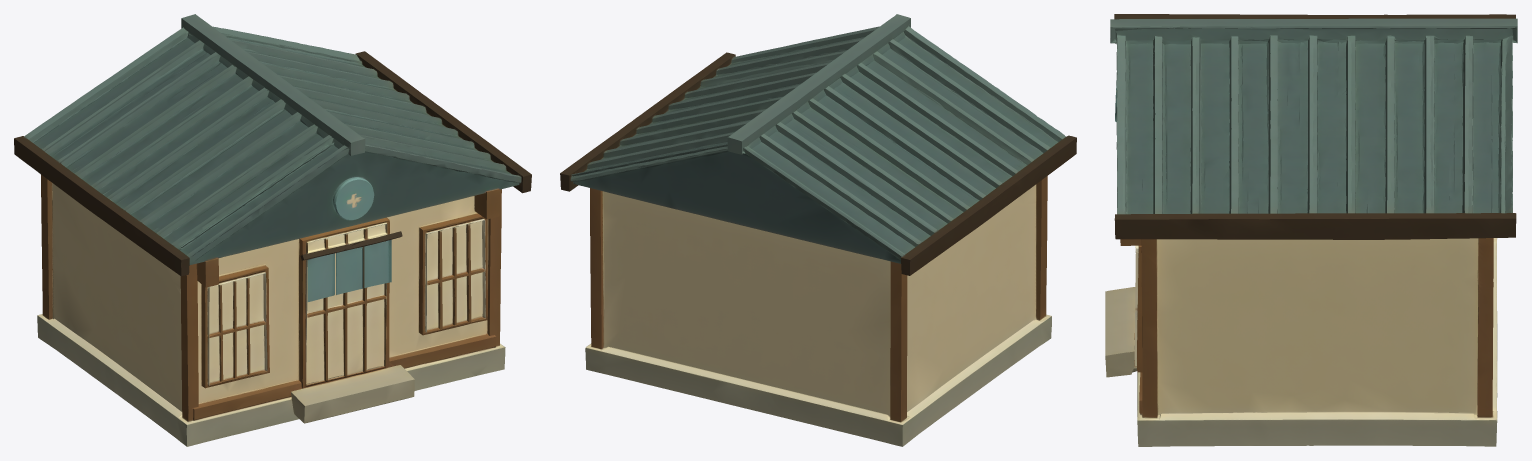
The model's file is source.glb.
The picture shows the model from 3 angles, left to right: view 1: azimuth 30°, elevation 25°; view 2: azimuth 150°, elevation 25°; view 3: azimuth 270°, elevation 25°; orthographic projection. The views are drawn at different scales.
Visible parts, largest first — view 1: model; view 2: model; view 3: model.
Part boxes in pixels (x1,y1,x2,y2): model: [14, 14, 531, 446]; model: [560, 14, 1076, 446]; model: [1105, 14, 1517, 446].
Bounding box in the file's own units: 1.89 × 1.42 × 1.6.
Materials: 1 (1 with a texture image).
